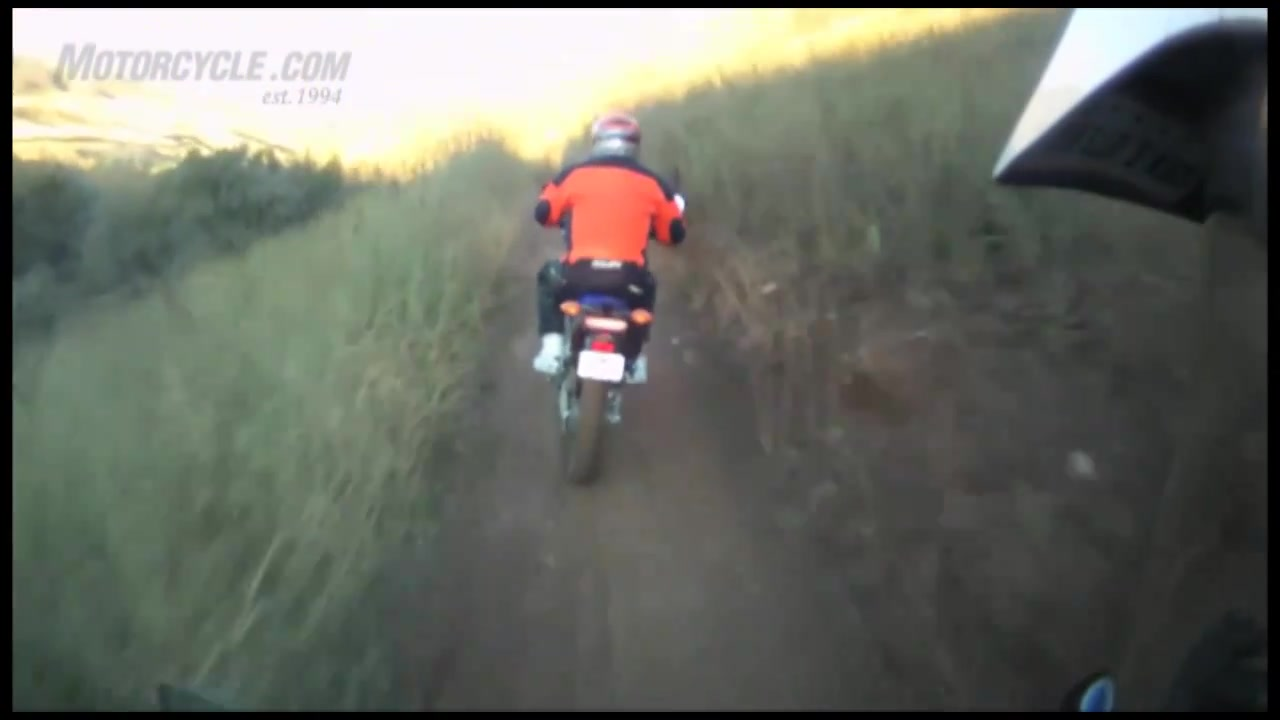motorbike: (538, 188, 688, 486)
